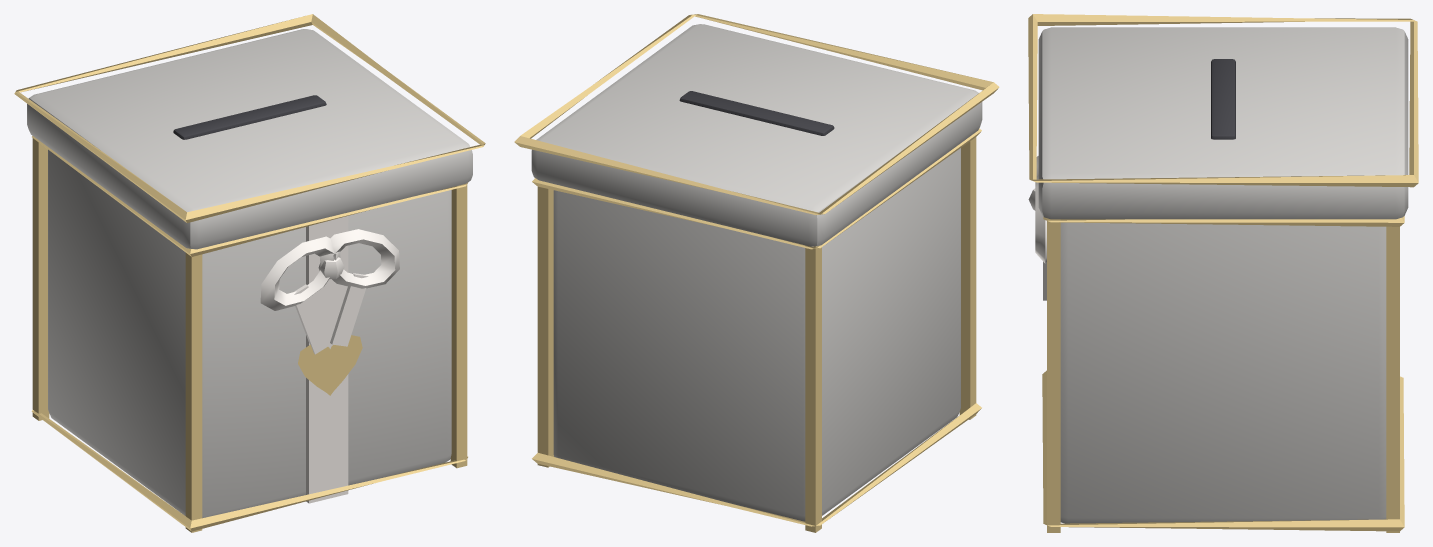
The model's file is envelope-box.glb.
3 renders of one model, left to right at view 1: azimuth 30°, elevation 25°; view 2: azimuth 150°, elevation 25°; view 3: azimuth 270°, elevation 25°, orthographic. The views are drawn at different scales.
Parts seen in each view (by area): view 1: envelope-box; view 2: envelope-box; view 3: envelope-box.
Boxes of the visible parts, x1=… form: envelope-box: x1=14, y1=14, x2=485, y2=532; envelope-box: x1=514, y1=14, x2=999, y2=532; envelope-box: x1=1028, y1=14, x2=1418, y2=532.
Bounding box in the file's own units: 0.4649 × 0.478 × 0.4649.
